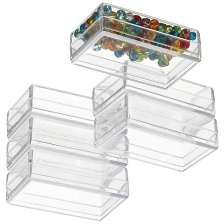plastic_box: (0, 79, 135, 224), (86, 59, 223, 177), (62, 0, 207, 94)
